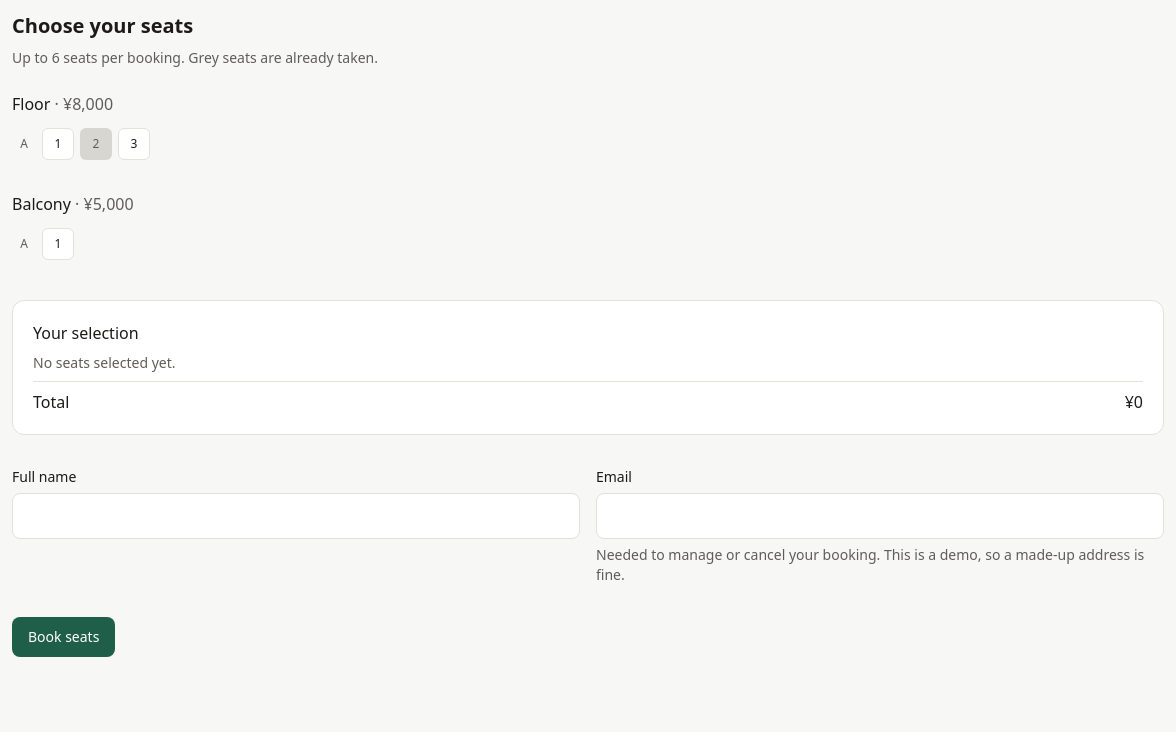
Test: BookingForm › adds selected seats to the summary and total
Click the checkbox named "Floor, row A, seat 1" at (58, 144), box [42, 128, 74, 160]
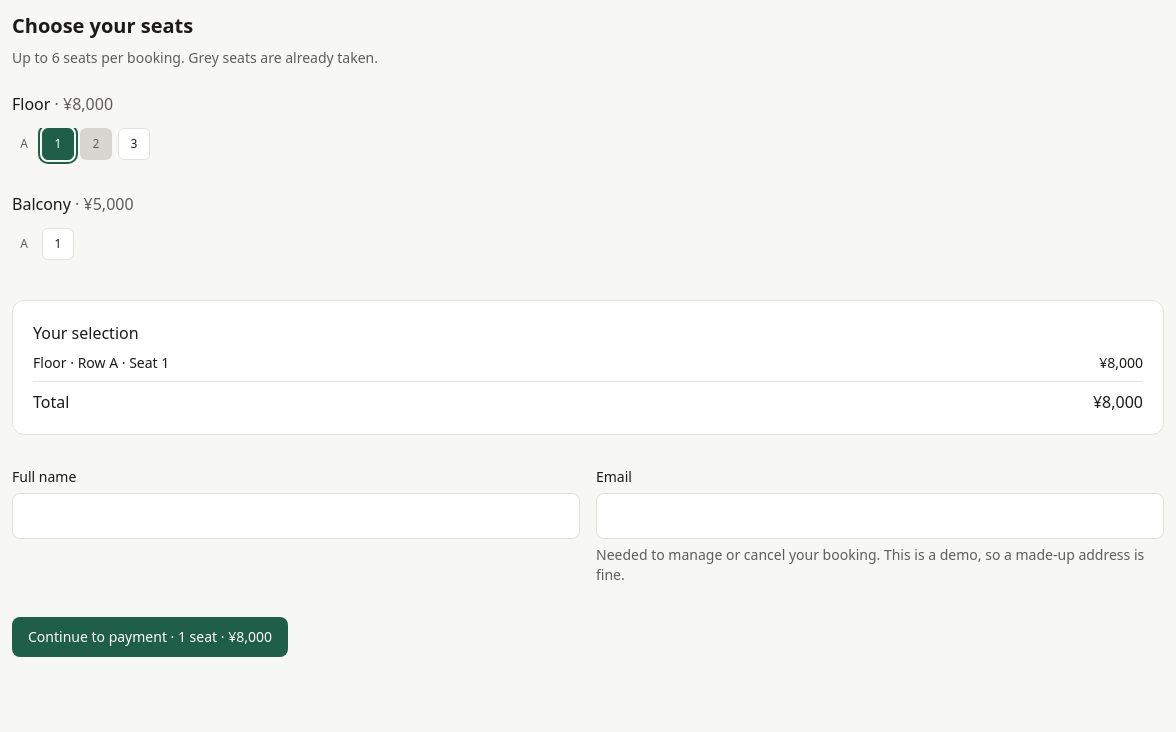
Click the checkbox named "Balcony, row A, seat 1" at (58, 244), box [42, 228, 74, 260]
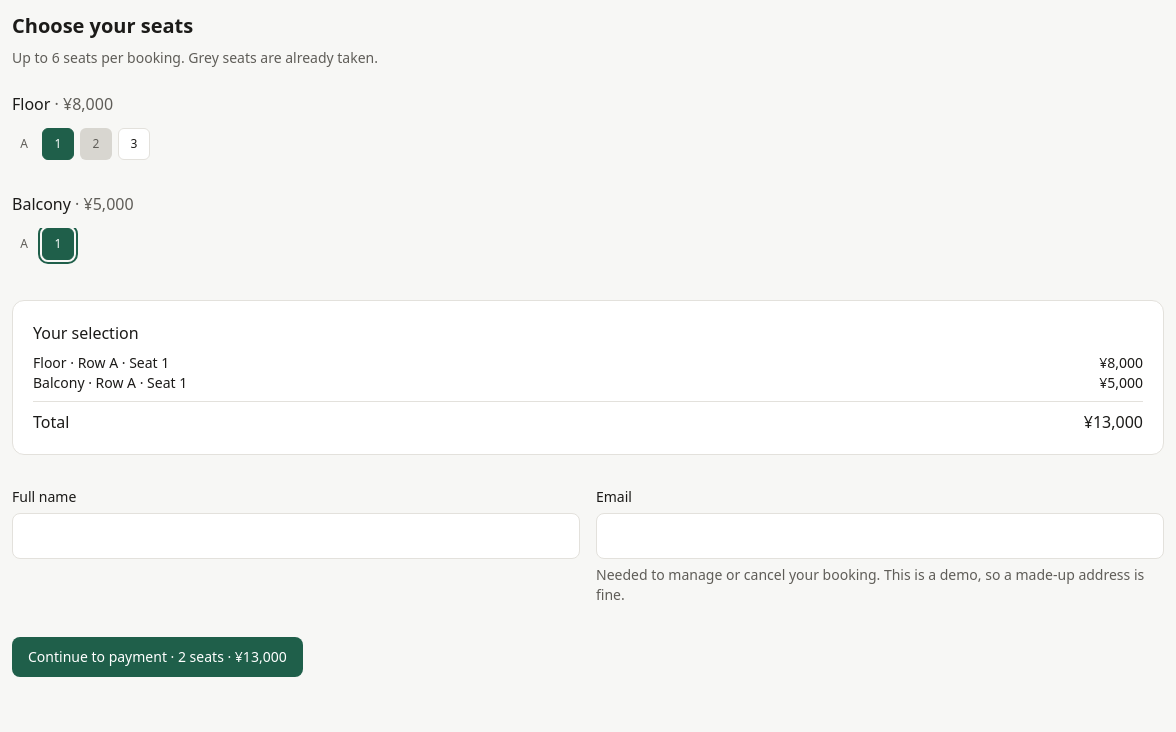
Now the text "Floor · Row A · Seat 1" is shown, box [33, 353, 169, 373]
Now the text "Balcony · Row A · Seat 1" is shown, box [33, 373, 187, 393]
Now the text with test id "booking-total" reads "¥13,000", box [1084, 411, 1143, 433]
